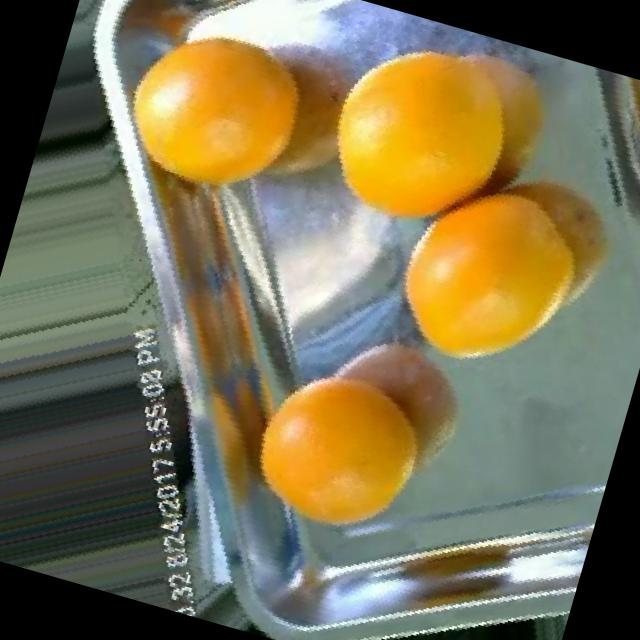Fruit: (354, 160, 624, 414)
